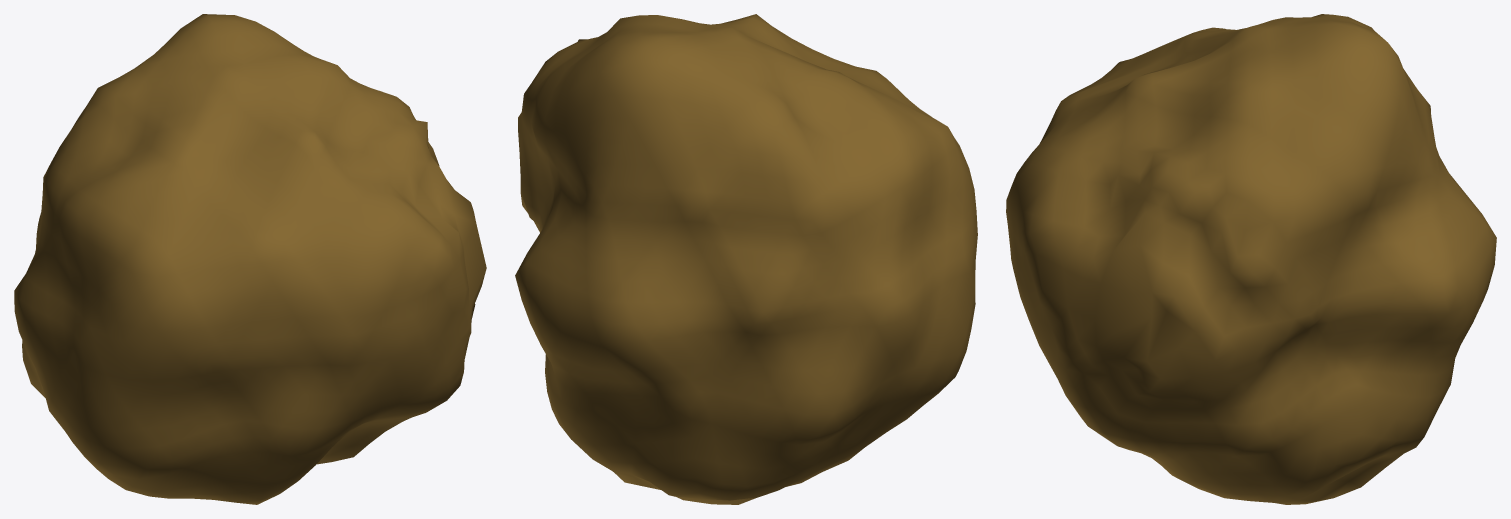
File: Core.gltf
The picture shows the model from 3 angles, left to right: view 1: azimuth 30°, elevation 25°; view 2: azimuth 150°, elevation 25°; view 3: azimuth 270°, elevation 25°; orthographic projection. The views are drawn at different scales.
Visible parts, largest first — view 1: Icosphere-col; view 2: Icosphere-col; view 3: Icosphere-col.
Boxes of the visible parts, x1,y1,x2,y2 form: Icosphere-col: (14, 14, 486, 504); Icosphere-col: (515, 14, 977, 504); Icosphere-col: (1006, 14, 1496, 504).
Bounding box in the file's own units: 171 × 175 × 170.
Materials: 1 (1 with a texture image).
